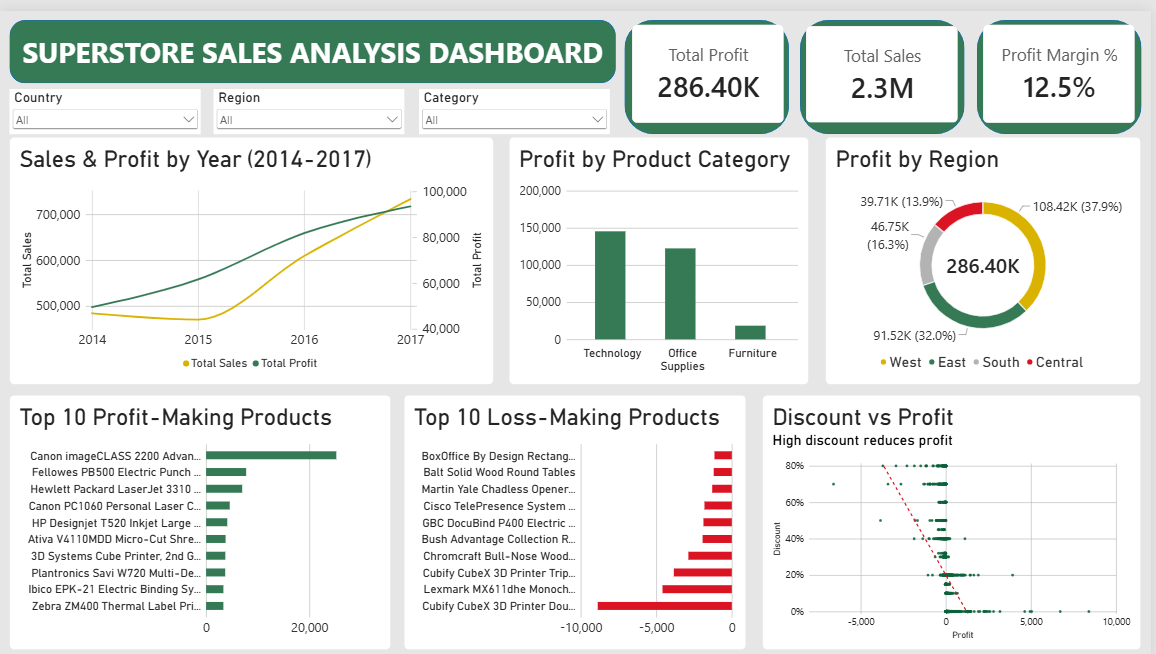

Layout of this report page (visuals, bound fields, positions):
{"tool":"powerbi","page":{"name":"ANALYSIS DASHBOARD","canvas":[1920,1080],"ordinal":1},"visuals":[{"type":"shape","box":[16.4,14.1,1010.5,105.5],"z":0},{"type":"shape","box":[1043.3,14.1,274.3,189.9],"z":1000},{"type":"cardVisual","fields":{"Data":["Sample - Superstore.Total Profit"]},"box":[1055,23.4,253.2,164.1],"z":2000},{"type":"shape","box":[1334,14.1,274.3,189.9],"z":2001},{"type":"shape","box":[1629.4,14.1,274.3,189.9],"z":2002},{"type":"cardVisual","fields":{"Data":["Sample - Superstore.Total Sales"]},"box":[1345.7,25.8,253.2,161.8],"z":2003},{"type":"cardVisual","fields":{"Data":["Sample - Superstore.Profit Margin %"]},"box":[1641.1,23.4,253.2,164.1],"z":2004},{"type":"lineChart","title":"Sales & Profit by Year (2014-2017)","fields":{"Category":["Sample - Superstore.Order Date.Variation.Date Hierarchy.Year"],"Y":["Sample - Superstore.Total Sales"],"Y2":["Sample - Superstore.Total Profit"]},"box":[16.4,211,806.5,412.6],"z":2005},{"type":"columnChart","title":"Profit by Product Category","fields":{"Category":["Sample - Superstore.Category"],"Y":["Sample - Superstore.Total Profit"]},"box":[851,211,499.4,412.6],"z":2006},{"type":"donutChart","title":"Profit by Region","fields":{"Category":["Sample - Superstore.Region"],"Y":["Sample - Superstore.Total Profit"]},"box":[1378.6,211,525.2,412.6],"z":2007},{"type":"clusteredBarChart","title":"Top 10 Profit-Making Products","fields":{"Category":["Sample - Superstore.Product Name"],"Y":["Sample - Superstore.Total Profit"]},"box":[16.4,640,635.4,424.4],"z":2008},{"type":"clusteredBarChart","title":"Top 10 Loss-Making Products","fields":{"Category":["Sample - Superstore.Product Name"],"Y":["Sample - Superstore.Total Profit"]},"box":[675.2,640,569.7,424.4],"z":2009},{"type":"scatterChart","title":"Discount vs Profit ","fields":{"X":["Sample - Superstore.Profit"],"Y":["Sample - Superstore.Discount"]},"box":[1273.1,640,630.7,424.4],"z":2010},{"type":"slicer","fields":{"Values":["Sample - Superstore.Country"]},"box":[16.4,128.9,318.8,75],"z":2011},{"type":"slicer","fields":{"Values":["Sample - Superstore.Region"]},"box":[356.4,128.9,318,75],"z":2012},{"type":"slicer","fields":{"Values":["Sample - Superstore.Category"]},"box":[701,128.9,318,75],"z":2013}]}

Visuals, with their boxes in screenshot pixels (x1, y1, x2, y2), scaled from the page's 1920x1080 canvas onto the 1156x654 screenshot:
shape: l=10, t=9, r=618, b=72
shape: l=628, t=9, r=793, b=124
cardVisual - Sample - Superstore.Total Profit: l=635, t=14, r=788, b=114
shape: l=803, t=9, r=968, b=124
shape: l=981, t=9, r=1146, b=124
cardVisual - Sample - Superstore.Total Sales: l=810, t=16, r=963, b=114
cardVisual - Sample - Superstore.Profit Margin %: l=988, t=14, r=1141, b=114
"Sales & Profit by Year (2014-2017)" lineChart: l=10, t=128, r=495, b=378
"Profit by Product Category" columnChart: l=512, t=128, r=813, b=378
"Profit by Region" donutChart: l=830, t=128, r=1146, b=378
"Top 10 Profit-Making Products" clusteredBarChart: l=10, t=388, r=392, b=645
"Top 10 Loss-Making Products" clusteredBarChart: l=407, t=388, r=750, b=645
"Discount vs Profit " scatterChart: l=767, t=388, r=1146, b=645
slicer - Sample - Superstore.Country: l=10, t=78, r=202, b=123
slicer - Sample - Superstore.Region: l=215, t=78, r=406, b=123
slicer - Sample - Superstore.Category: l=422, t=78, r=614, b=123
